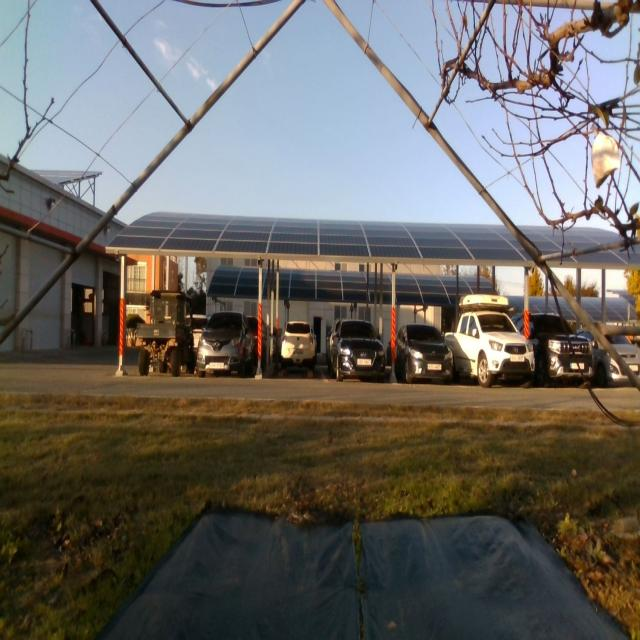pearbags: (592, 131, 620, 187)
